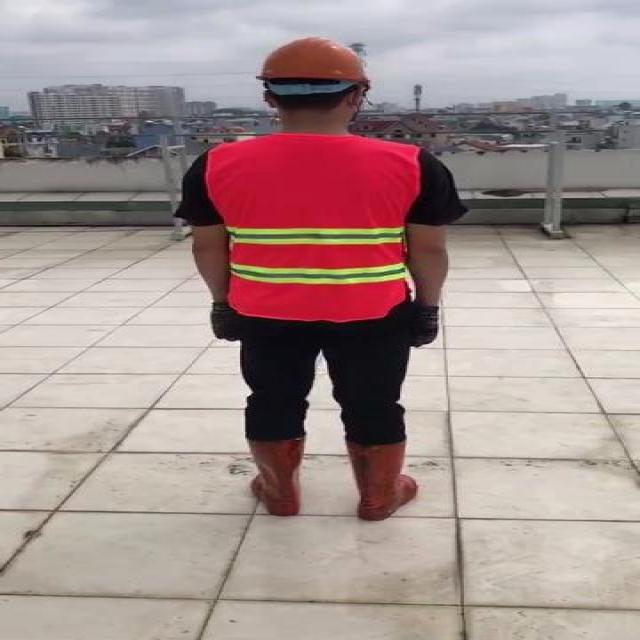boots: (345, 438, 418, 523), (243, 437, 306, 516)
hand_glove: (210, 303, 243, 343), (411, 304, 441, 347)
head_helmet: (256, 36, 370, 88)
person: (170, 35, 468, 532)
vest: (206, 134, 416, 321)
